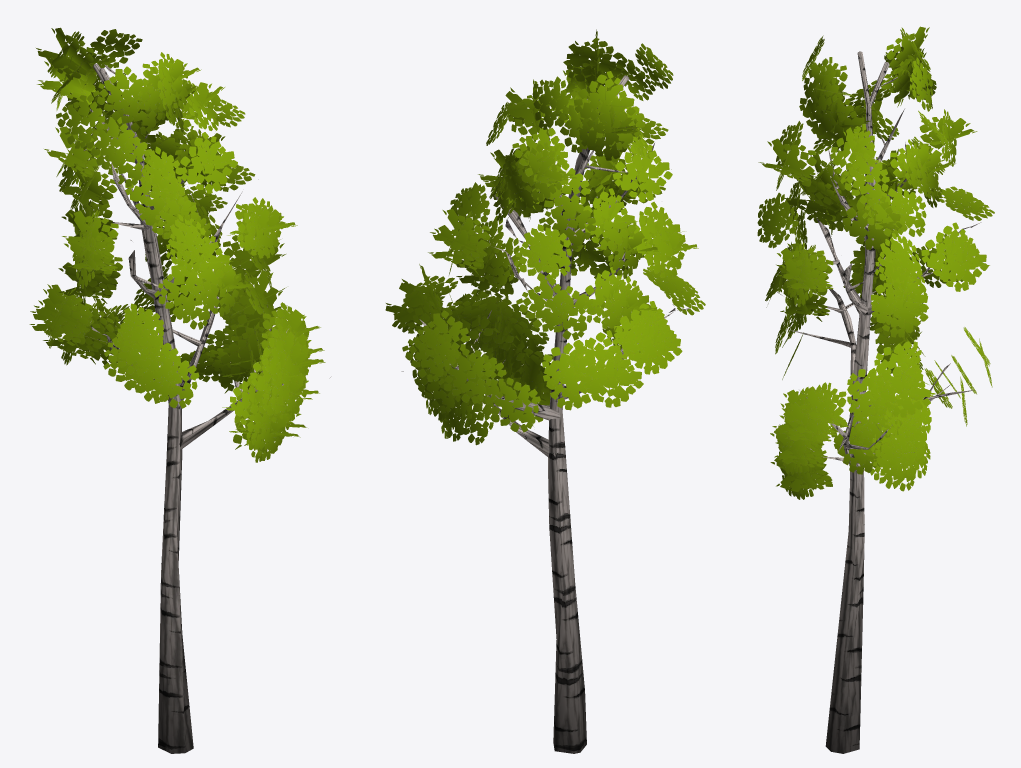
The model's file is tree-health-2-sapling.glb.
3 renders of one model, left to right at view 1: azimuth 30°, elevation 25°; view 2: azimuth 150°, elevation 25°; view 3: azimuth 270°, elevation 25°, orthographic. The views are drawn at different scales.
Visible parts, largest first — view 1: Birch_2; view 2: Birch_2; view 3: Birch_2.
Boxes of the visible parts, x1,y1,x2,y2 form: Birch_2: (29,27,331,753); Birch_2: (385,29,705,753); Birch_2: (757,26,994,753).
Bounding box in the file's own units: 0.2816 × 0.648 × 0.2202.
Materials: 2 (2 with a texture image).
